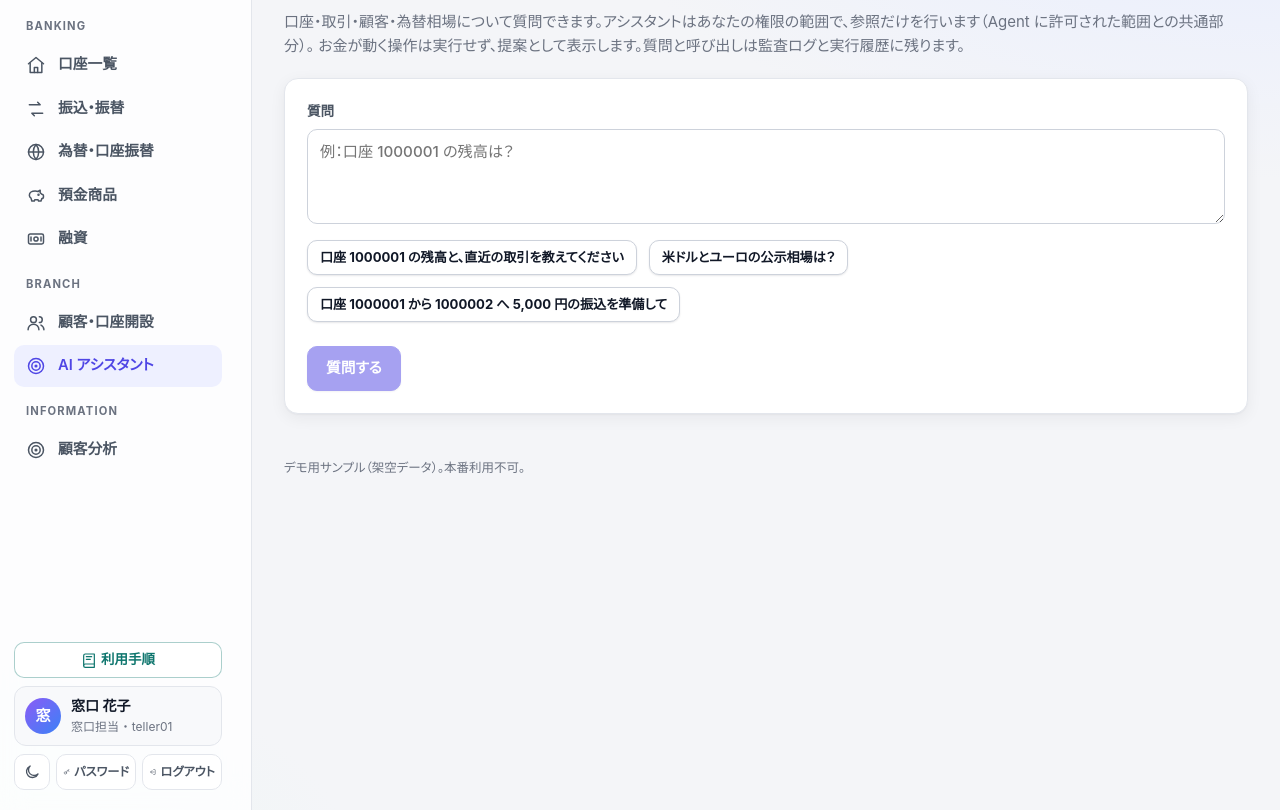
Test: AssistantPage › 質問すると、回答・提案（未実行）・ツールの結果・費用と追跡 ID を表示する
The width and height of the screenshot is (1280, 810).
Type "1000001 の残高は？" into the text box labelled "質問" at (766,176), box top-left (307, 129), bottom-right (1225, 224)
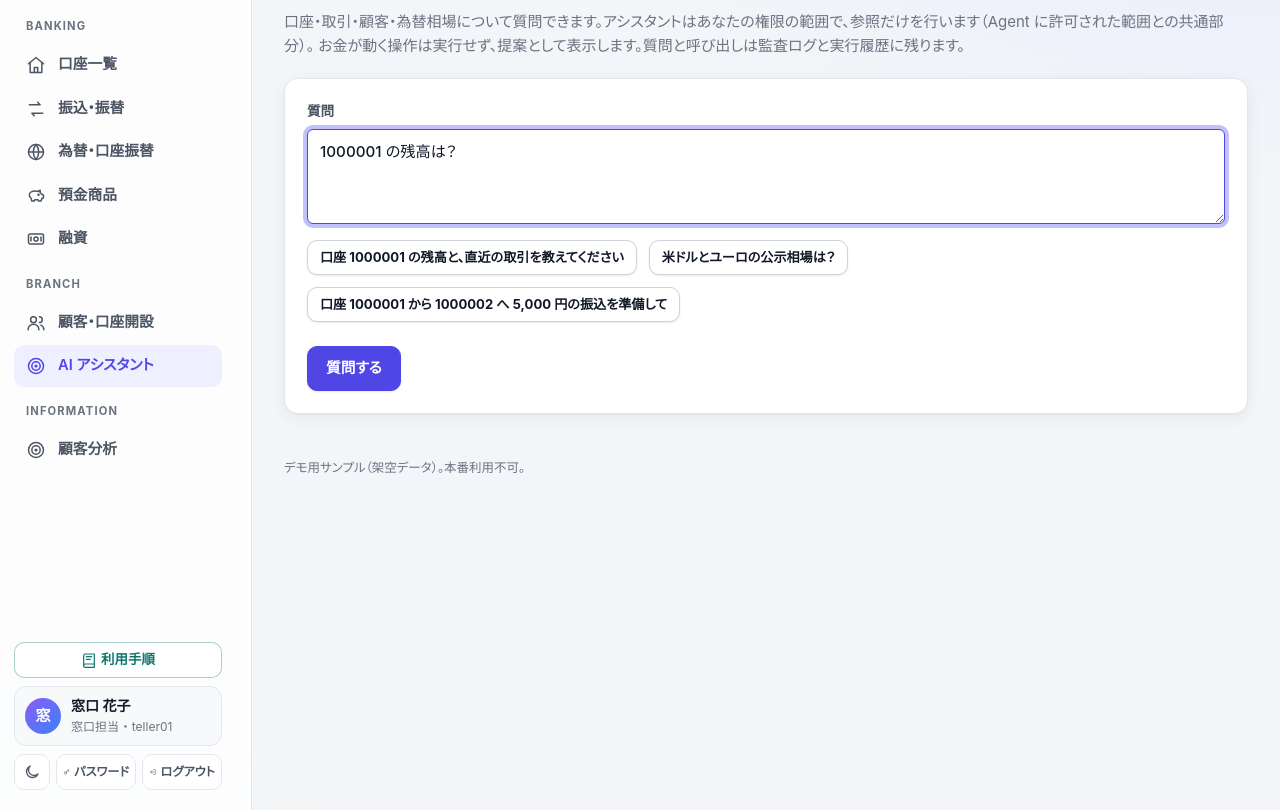
Click the button "質問する" at (354,369), box top-left (307, 346), bottom-right (401, 391)
(page scrolled)
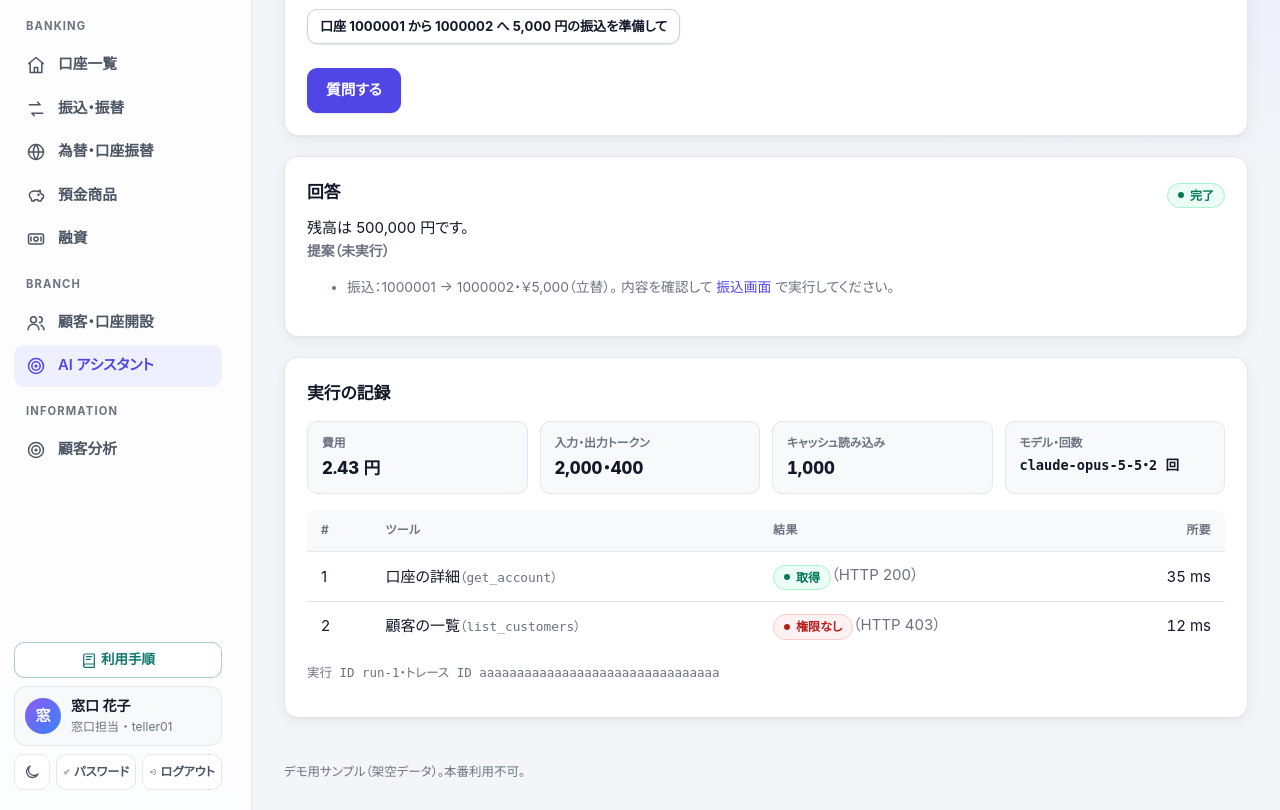
Expected: the text "残高は 500,000 円です。" is shown, top-left (307, 218), bottom-right (469, 237)
Expected: the list item "振込：1000001 → 1000002・￥5,000（立替）。 内容を確認して 振込画面 で実行してください。" is shown, top-left (347, 279), bottom-right (894, 295)
Expected: the text "2.43 円" is shown, top-left (322, 458), bottom-right (380, 478)
